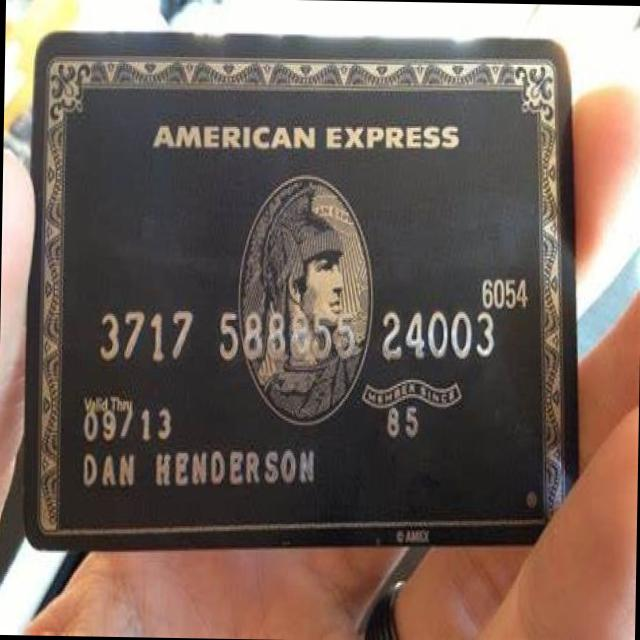card: (26, 41, 576, 553)
